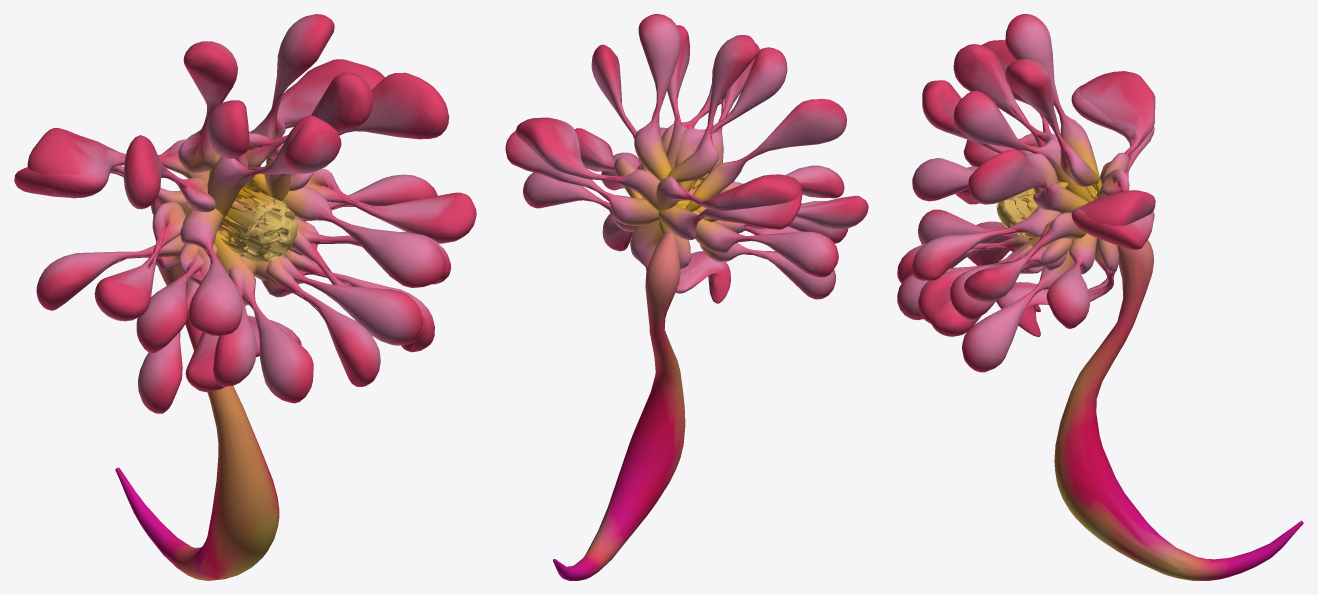
3 renders of one model, left to right at view 1: azimuth 30°, elevation 25°; view 2: azimuth 150°, elevation 25°; view 3: azimuth 270°, elevation 25°, orthographic. The views are drawn at different scales.
Visible parts, largest first — view 1: LOD 3_6177960798552739207_21c40791c56367b44a9c269bf2c0023c; view 2: LOD 3_6177960798552739207_21c40791c56367b44a9c269bf2c0023c; view 3: LOD 3_6177960798552739207_21c40791c56367b44a9c269bf2c0023c.
Boxes of the visible parts, bbox=[...] form: LOD 3_6177960798552739207_21c40791c56367b44a9c269bf2c0023c: bbox=[14, 14, 476, 580]; LOD 3_6177960798552739207_21c40791c56367b44a9c269bf2c0023c: bbox=[505, 14, 868, 580]; LOD 3_6177960798552739207_21c40791c56367b44a9c269bf2c0023c: bbox=[897, 14, 1303, 580].
Size of the model in its own units: 1.48 by 2.24 by 1.56.
